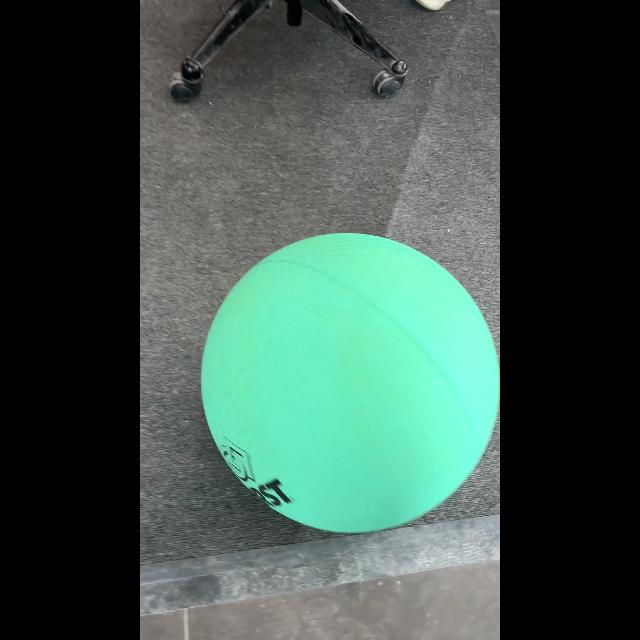ALGAE: (200, 231, 498, 535)
